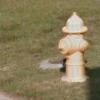Hydrant: (52, 4, 92, 89)
